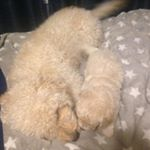puppy: (1, 72, 81, 148), (74, 47, 126, 138)
